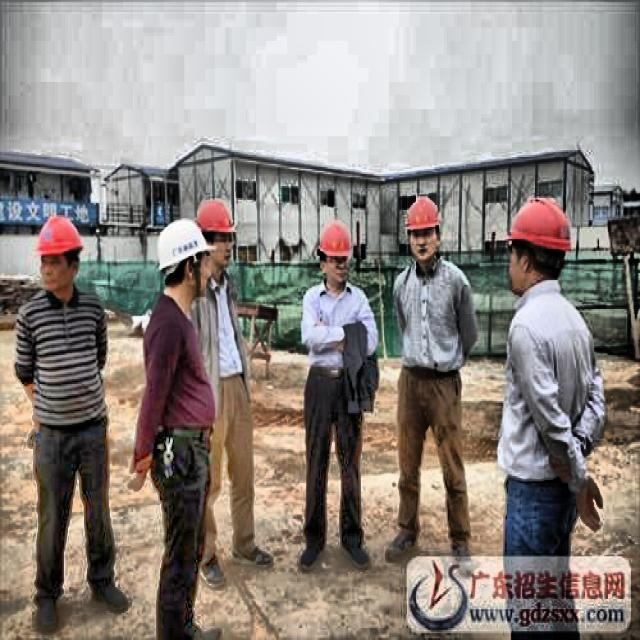helmet: (499, 194, 572, 294), (155, 215, 214, 314), (33, 214, 87, 296), (194, 195, 236, 278), (404, 196, 446, 270), (314, 219, 356, 290)
